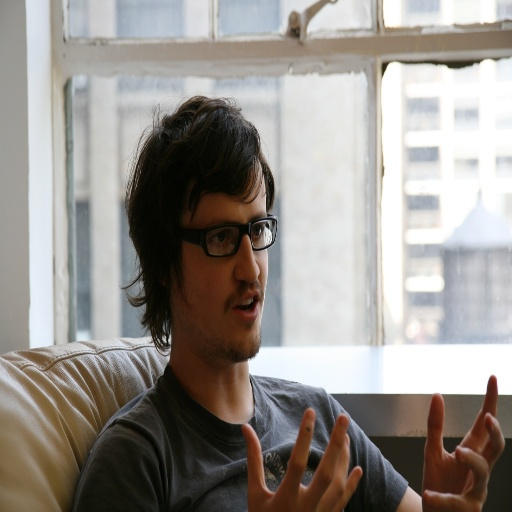hand: (241, 406, 361, 511), (420, 381, 512, 505)
